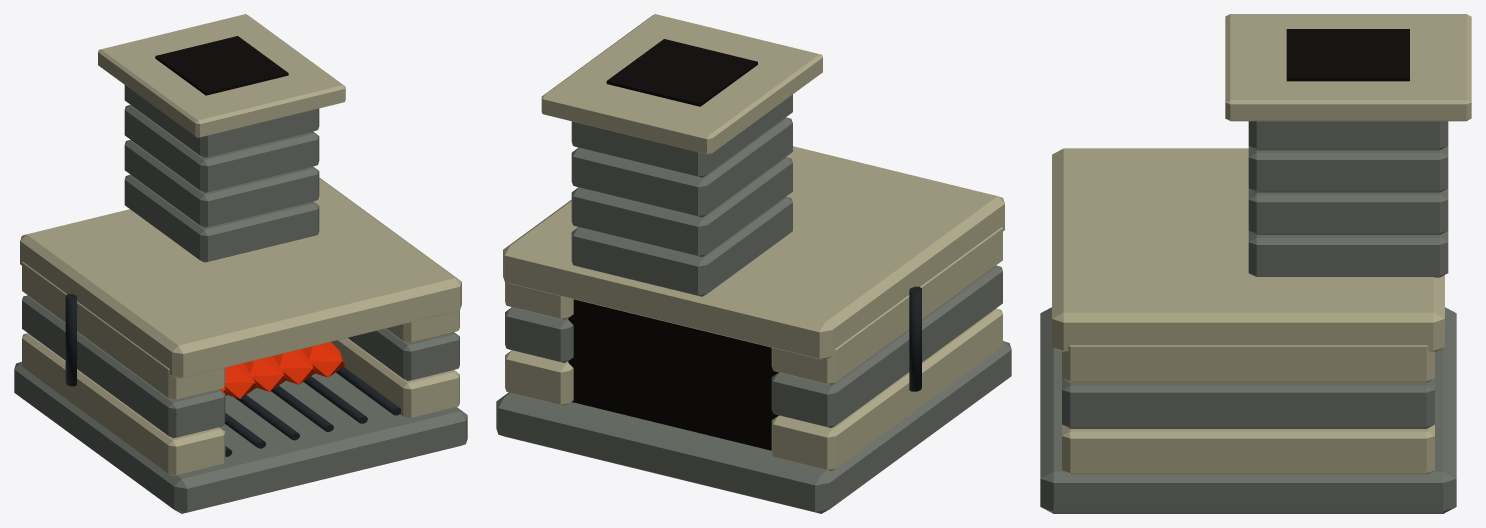
Rendered from forge.obj.
The picture shows the model from 3 angles, left to right: view 1: azimuth 30°, elevation 25°; view 2: azimuth 150°, elevation 25°; view 3: azimuth 270°, elevation 25°; orthographic projection. The views are drawn at different scales.
Visible parts, largest first — view 1: forge; view 2: forge; view 3: forge.
Boxes of the visible parts, x1,y1,x2,y2 form: forge: (14, 14, 467, 513); forge: (496, 14, 1011, 513); forge: (1040, 14, 1471, 513).
Bounding box in the file's own units: 1 × 1 × 1.
